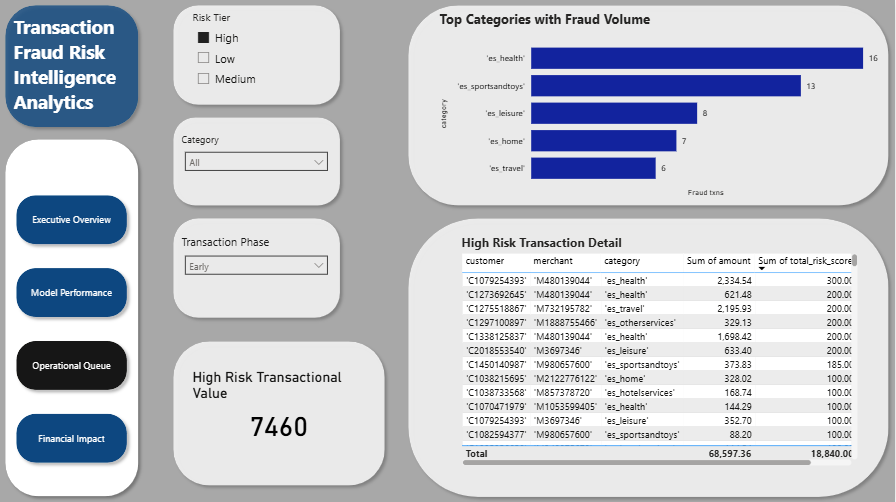

Layout of this report page (visuals, bound fields, positions):
{"tool":"powerbi","page":{"name":"Operational Queue","canvas":[1280,720],"ordinal":2},"visuals":[{"type":"shape","box":[0,0,208,192],"z":0},{"type":"shape","box":[240,480,320,224],"z":1000},{"type":"shape","box":[576,304,704,416],"z":2000},{"type":"shape","box":[576,0,704,304],"z":3000},{"type":"shape","box":[240,304,256,160],"z":4000},{"type":"shape","box":[240,160,256,144],"z":5000},{"type":"shape","box":[240,0,256,160],"z":6000},{"type":"clusteredBarChart","title":"Top Categories with Fraud Volume","fields":{"Y":["transaction_risk_score_final.Fraud txns"],"Category":["transaction_risk_score_final.category"]},"box":[624,16,640,272],"z":7000},{"type":"slicer","title":"Category","fields":{"Values":["transaction_risk_score_final.category"]},"box":[256,192,224,96],"z":8000},{"type":"slicer","title":"Risk Tier","fields":{"Values":["transaction_risk_score_final.risk_tier"]},"box":[272,16,192,128],"z":9000},{"type":"shape","box":[0,192,208,528],"z":9000,"group":"g1"},{"type":"tableEx","title":"High Risk Transaction Detail","fields":{"Values":["transaction_risk_score_final.customer","transaction_risk_score_final.merchant","transaction_risk_score_final.category","Sum(transaction_risk_score_final.amount)","Sum(transaction_risk_score_final.total_risk_score)","transaction_risk_score_final.risk_tier"]},"box":[656,336,576,336],"z":10000},{"type":"card","title":"High Risk Transactional Value","fields":{"Values":["Sum(transaction_risk_score_final.amount_risk)"]},"box":[272,528,256,112],"z":11000},{"type":"group","id":"g1","title":"Group 1","box":[0,16,224,704],"z":12000},{"type":"slicer","title":"Transaction Phase","fields":{"Values":["transaction_risk_score_final.day_bucket"]},"box":[256,336,224,96],"z":13000},{"type":"textbox","box":[16,16,208,176],"z":16002,"group":"g1"},{"type":"pageNavigator","box":[16,272,176,400],"z":23502,"group":"g1"}]}

Visuals, with their boxes in screenshot pixels (x1, y1, x2, y2), scaled from the page's 1280x720 canvas onto the 896x502 screenshot:
shape: select_region(0, 0, 146, 134)
shape: select_region(168, 335, 392, 491)
shape: select_region(403, 212, 895, 501)
shape: select_region(403, 0, 895, 212)
shape: select_region(168, 212, 347, 324)
shape: select_region(168, 112, 347, 212)
shape: select_region(168, 0, 347, 112)
"Top Categories with Fraud Volume" clusteredBarChart: select_region(437, 11, 885, 201)
"Category" slicer: select_region(179, 134, 336, 201)
"Risk Tier" slicer: select_region(190, 11, 325, 100)
shape: select_region(0, 134, 146, 501)
"High Risk Transaction Detail" tableEx: select_region(459, 234, 862, 469)
"High Risk Transactional Value" card: select_region(190, 368, 370, 446)
"Group 1" group: select_region(0, 11, 157, 501)
"Transaction Phase" slicer: select_region(179, 234, 336, 301)
textbox: select_region(11, 11, 157, 134)
pageNavigator: select_region(11, 190, 134, 469)
